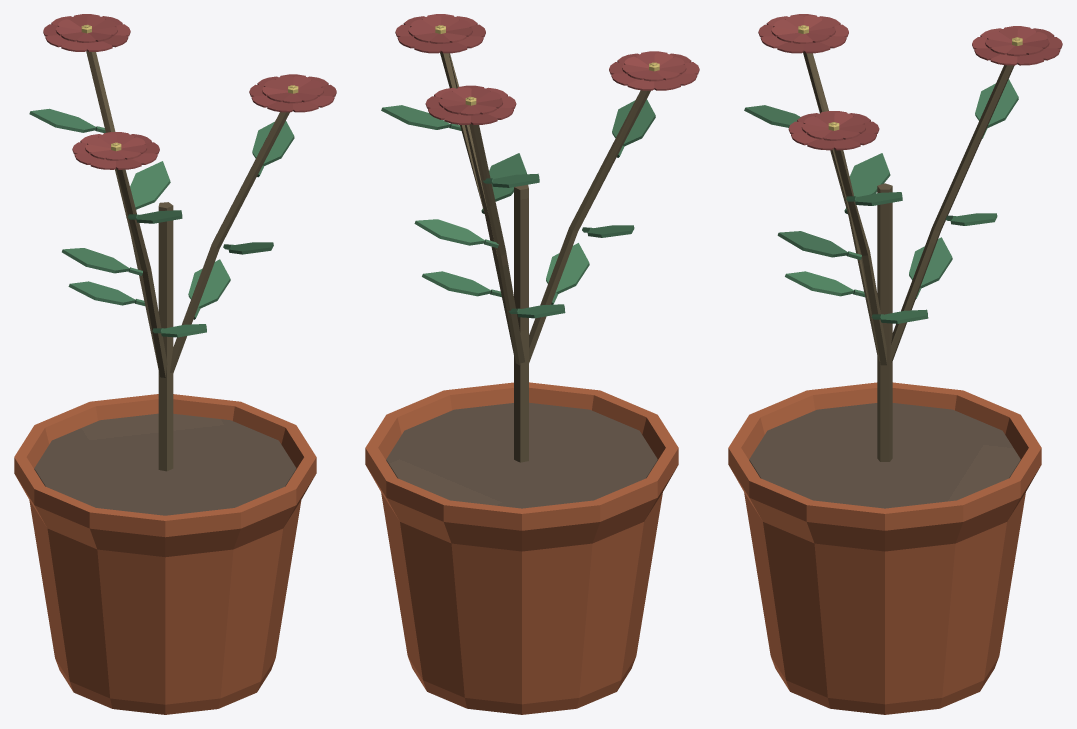
Rendered from camellia.glb.
3 views of the same model, side by side, from view 1: azimuth 30°, elevation 25°; view 2: azimuth 150°, elevation 25°; view 3: azimuth 270°, elevation 25° (orthographic). The views are drawn at different scales.
Visible parts, largest first — view 1: camellia/review-terra-vessel, camellia/review-rooted-soil, camellia/petiole-001, camellia/stem-002, camellia/stem-056, camellia/stem-029, camellia/leaf-033, camellia/leaf-004, camellia/leaf-060, camellia/leaf-008, camellia/leaf-031, camellia/leaf-035; view 2: camellia/review-terra-vessel, camellia/review-rooted-soil, camellia/petiole-001, camellia/stem-056, camellia/stem-029, camellia/stem-002, camellia/leaf-058, camellia/leaf-033, camellia/leaf-062, camellia/leaf-004, camellia/leaf-008, camellia/leaf-006; view 3: camellia/review-terra-vessel, camellia/review-rooted-soil, camellia/petiole-001, camellia/stem-029, camellia/stem-002, camellia/stem-056, camellia/leaf-060, camellia/leaf-031, camellia/leaf-006, camellia/leaf-035, camellia/leaf-058, camellia/leaf-062.
Boxes of the visible parts, bbox=[...] form: camellia/review-terra-vessel: bbox=[14, 394, 316, 714]; camellia/review-rooted-soil: bbox=[34, 413, 296, 515]; camellia/petiole-001: bbox=[158, 202, 173, 471]; camellia/stem-002: bbox=[170, 112, 289, 372]; camellia/stem-056: bbox=[116, 169, 167, 377]; camellia/stem-029: bbox=[86, 51, 158, 369]; camellia/leaf-033: bbox=[130, 161, 170, 209]; camellia/leaf-004: bbox=[188, 259, 230, 308]; camellia/leaf-060: bbox=[62, 248, 129, 273]; camellia/leaf-008: bbox=[252, 121, 294, 166]; camellia/leaf-031: bbox=[68, 281, 135, 305]; camellia/leaf-035: bbox=[29, 108, 96, 132]; camellia/review-terra-vessel: bbox=[365, 382, 678, 714]; camellia/review-rooted-soil: bbox=[386, 402, 657, 508]; camellia/petiole-001: bbox=[514, 184, 528, 462]; camellia/stem-056: bbox=[529, 90, 650, 362]; camellia/stem-029: bbox=[469, 124, 524, 365]; camellia/stem-002: bbox=[440, 52, 513, 354]; camellia/leaf-058: bbox=[546, 243, 589, 293]; camellia/leaf-033: bbox=[414, 219, 485, 245]; camellia/leaf-062: bbox=[612, 99, 655, 146]; camellia/leaf-004: bbox=[422, 271, 491, 296]; camellia/leaf-008: bbox=[381, 105, 450, 129]; camellia/leaf-006: bbox=[489, 153, 526, 201]; camellia/review-terra-vessel: bbox=[728, 382, 1041, 714]; camellia/review-rooted-soil: bbox=[749, 403, 1020, 508]; camellia/petiole-001: bbox=[877, 183, 892, 461]; camellia/stem-029: bbox=[890, 65, 1014, 362]; camellia/stem-002: bbox=[833, 149, 886, 365]; camellia/stem-056: bbox=[803, 52, 877, 354]; camellia/leaf-060: bbox=[849, 153, 890, 196]; camellia/leaf-031: bbox=[909, 237, 952, 288]; camellia/leaf-006: bbox=[777, 231, 848, 257]; camellia/leaf-035: bbox=[975, 79, 1018, 128]; camellia/leaf-058: bbox=[785, 271, 854, 296]; camellia/leaf-062: bbox=[744, 105, 800, 127].
Bounding box in the file's own units: 0.2792 × 0.5925 × 0.2881.
6 materials, 6 textured.
